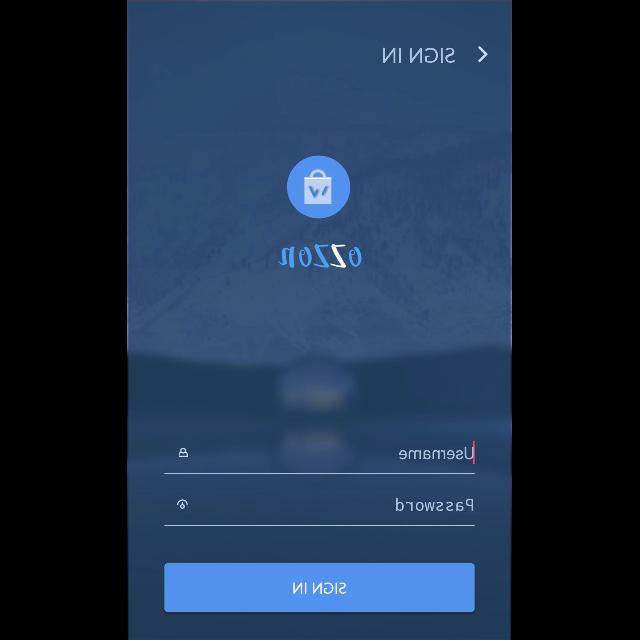icon: (479, 46, 489, 64), (180, 448, 188, 457)
image: (287, 155, 351, 219), (278, 244, 362, 268), (178, 499, 188, 508)
input: (164, 442, 476, 474), (165, 498, 475, 526)
text: (384, 47, 456, 63), (396, 498, 474, 512), (400, 447, 474, 459)
textbutton: (165, 564, 475, 612)
